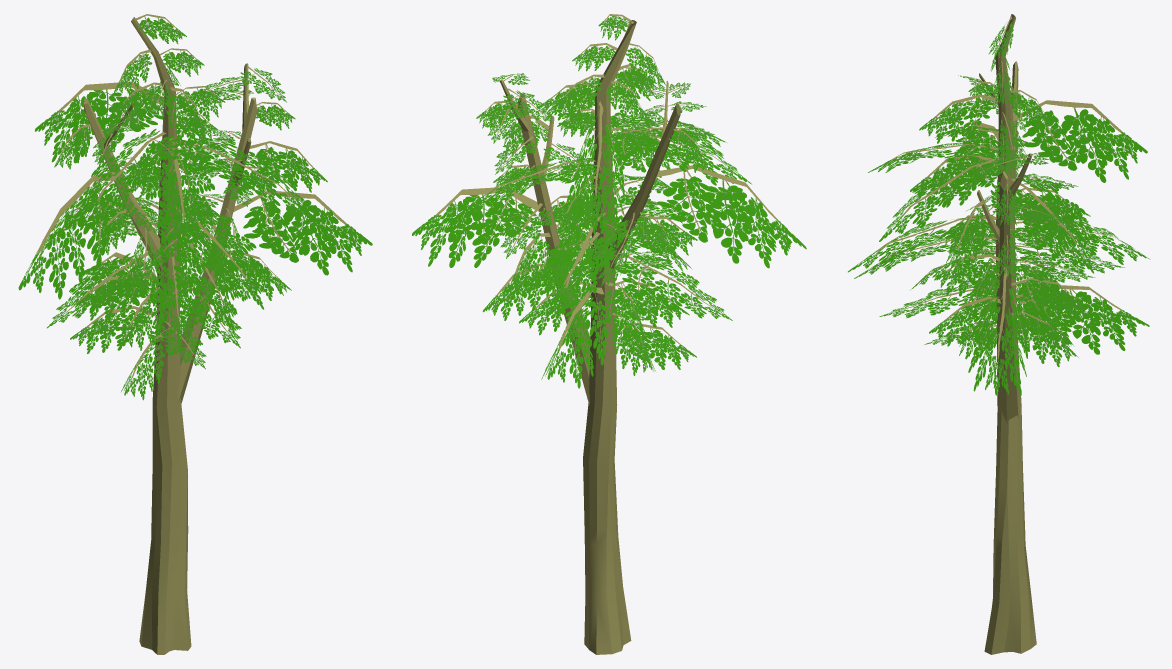
Rendered from MalunggayTree.fbx.
The picture shows the model from 3 angles, left to right: view 1: azimuth 30°, elevation 25°; view 2: azimuth 150°, elevation 25°; view 3: azimuth 270°, elevation 25°; orthographic projection. The views are drawn at different scales.
Parts seen in each view (by area): view 1: MalunggayTreeLeavesLOD0, MalunggayTreeTrunkLOD0; view 2: MalunggayTreeLeavesLOD0, MalunggayTreeTrunkLOD0; view 3: MalunggayTreeLeavesLOD0, MalunggayTreeTrunkLOD0.
Boxes of the visible parts, x1,y1,x2,y2 form: MalunggayTreeLeavesLOD0: [18, 14, 372, 400]; MalunggayTreeTrunkLOD0: [84, 17, 257, 654]; MalunggayTreeLeavesLOD0: [412, 14, 806, 388]; MalunggayTreeTrunkLOD0: [500, 20, 680, 654]; MalunggayTreeLeavesLOD0: [848, 16, 1150, 395]; MalunggayTreeTrunkLOD0: [977, 14, 1036, 654].
Size of what is drawn, in the model's own units: 384 by 604 by 279.
2 materials, 2 textured.
